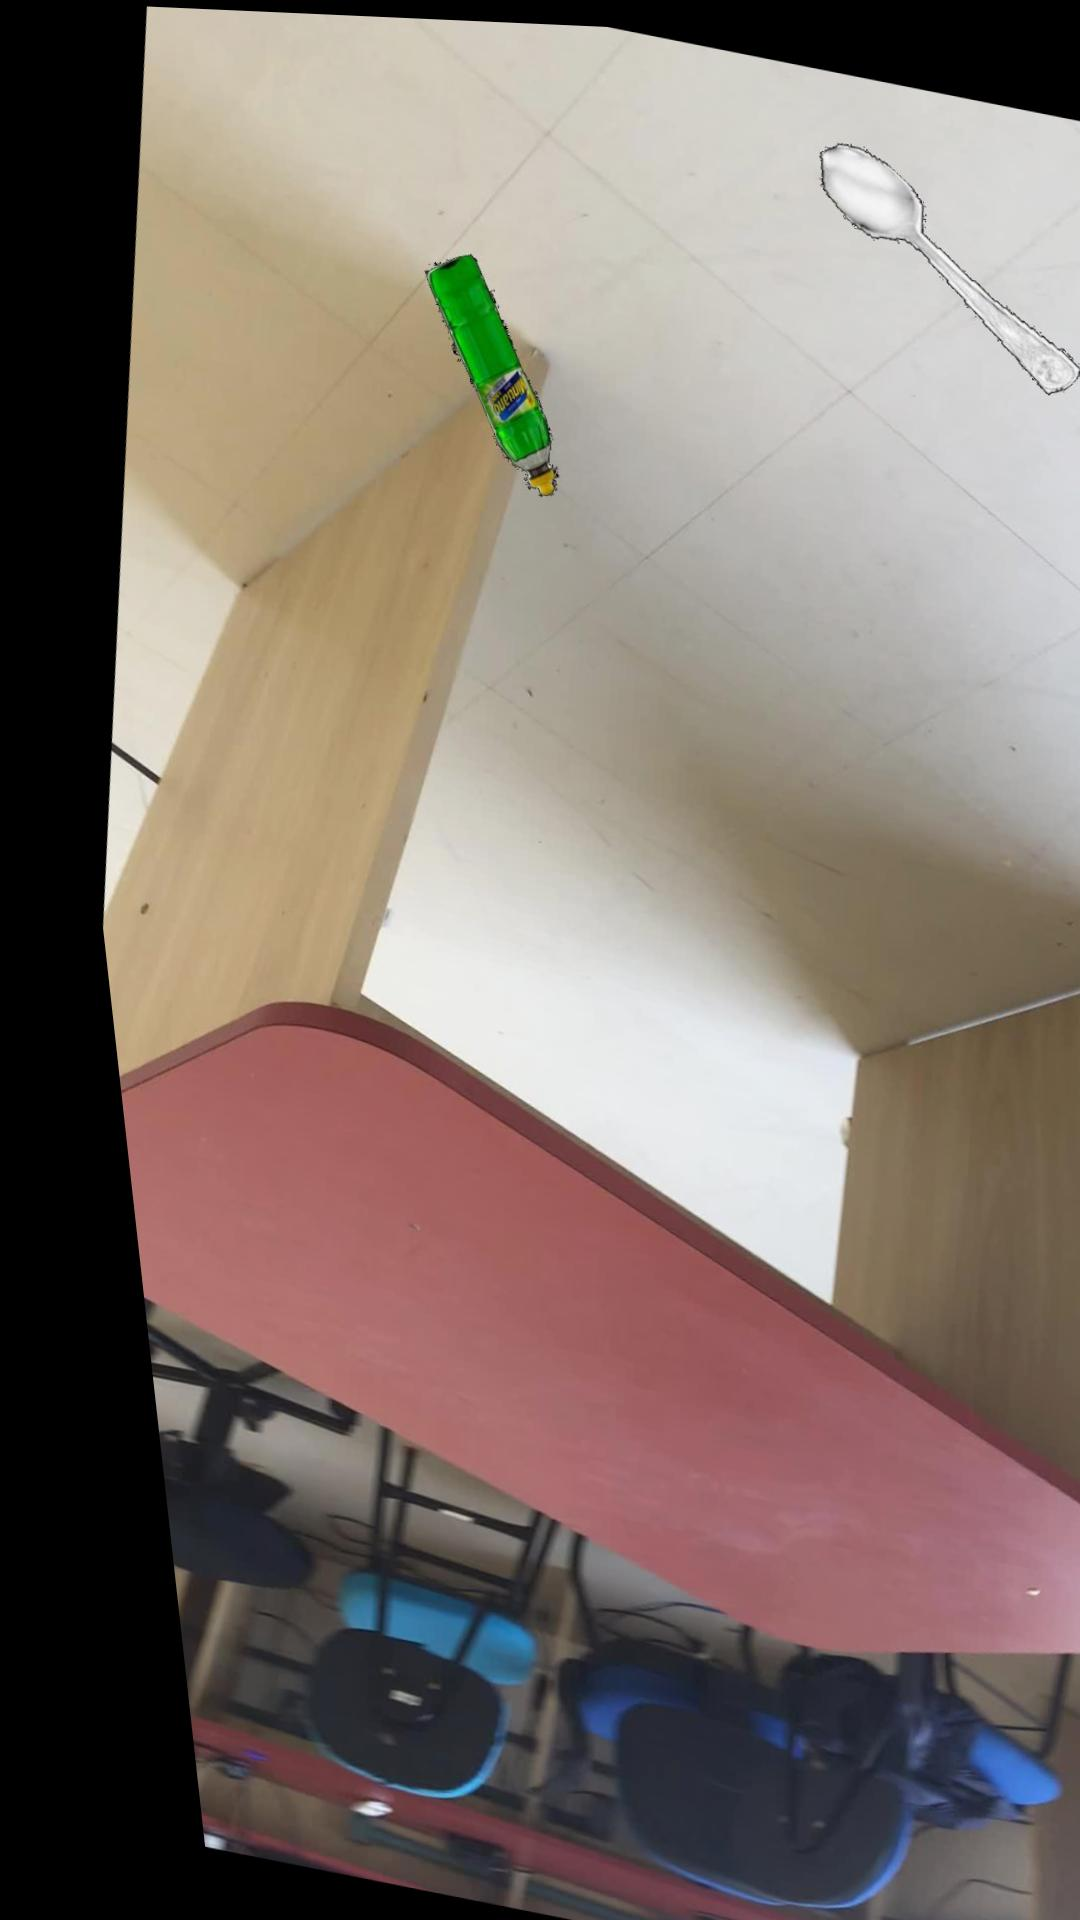cleaner: (415, 249, 543, 492)
spoon: (814, 135, 1071, 385)
